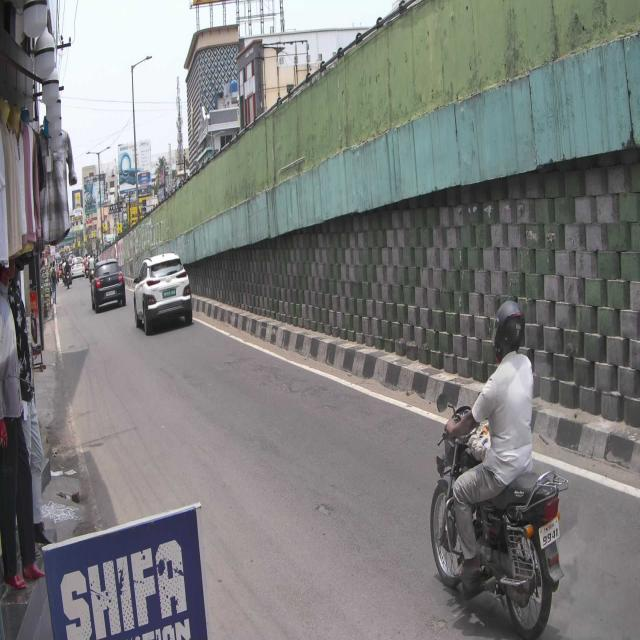single_rider: (429, 299, 566, 640)
